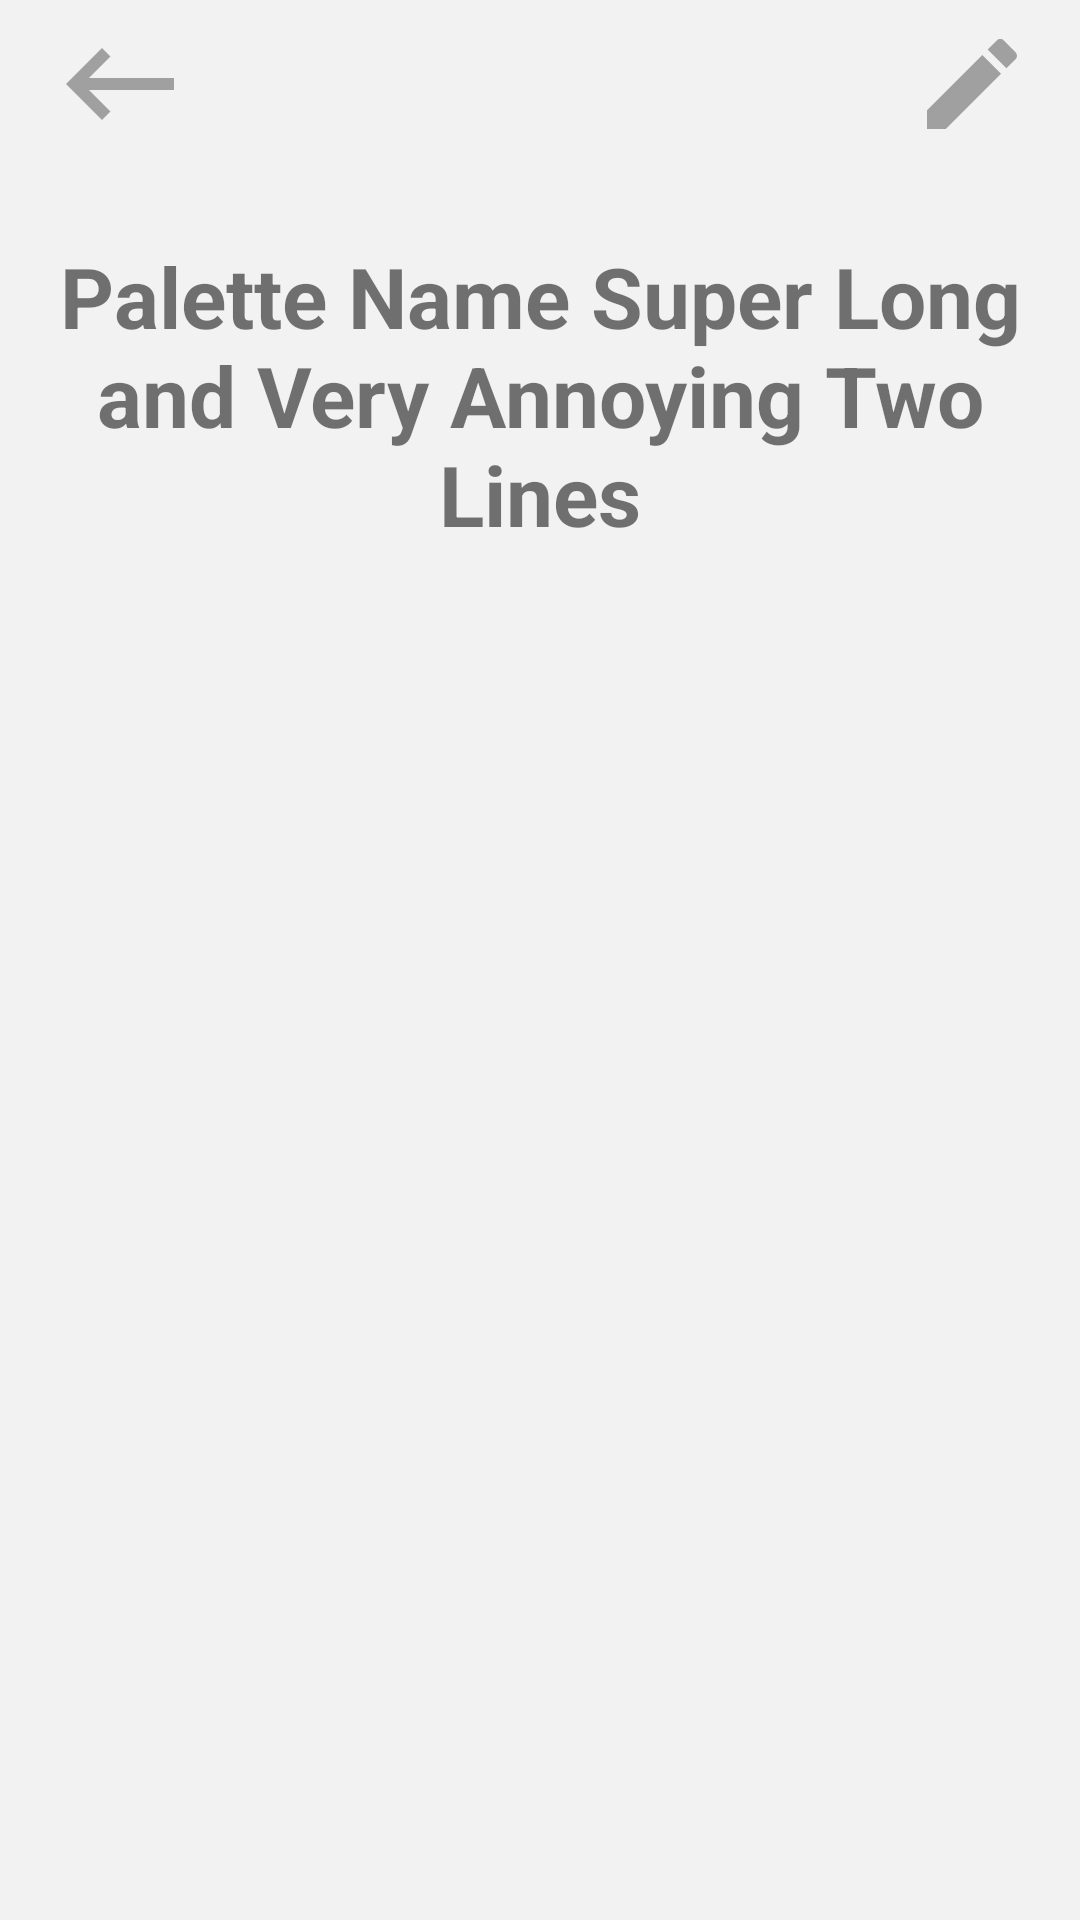

Icon click points for this 1080 × 1920 phone screenshot, format (x=x, y=y):
edit: (x=972, y=84)
keyboard backspace: (x=120, y=84)
